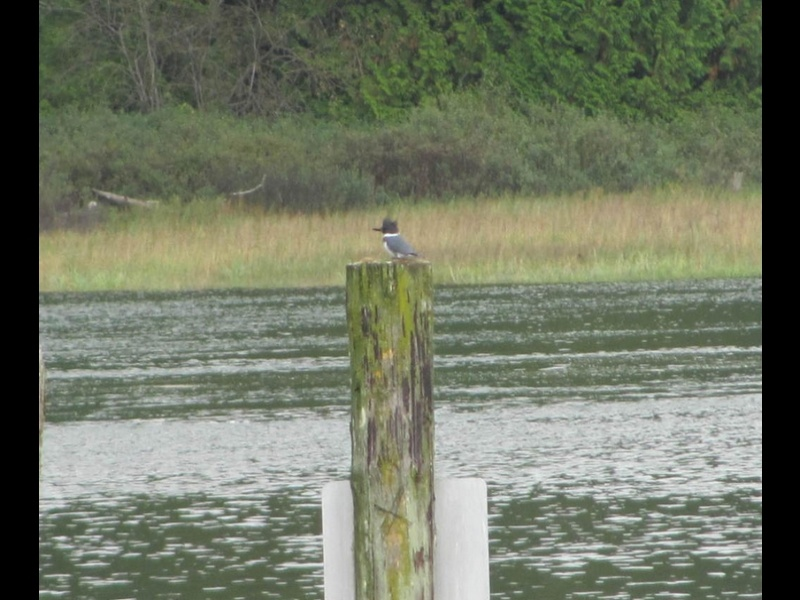kingfisher: (372, 216, 424, 266)
